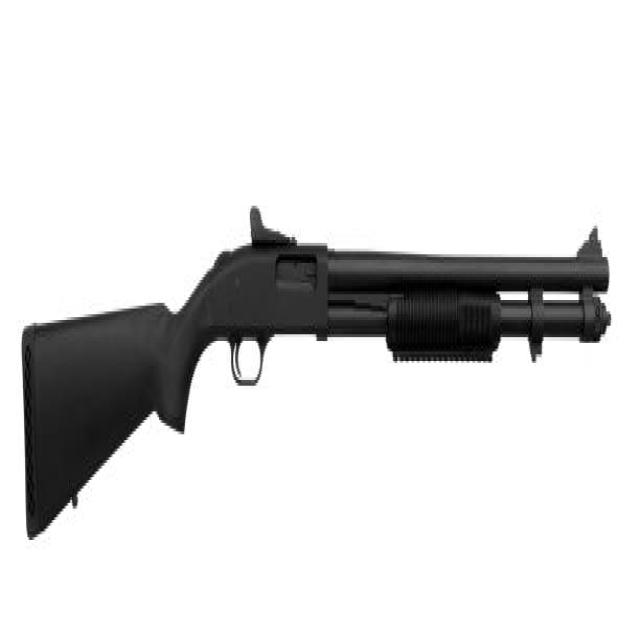rifle: (17, 209, 618, 553)
